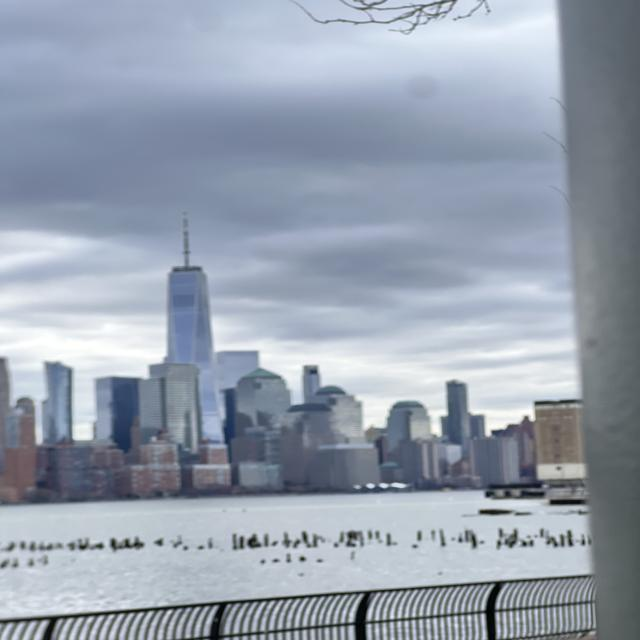WTC: (164, 212, 214, 364)
